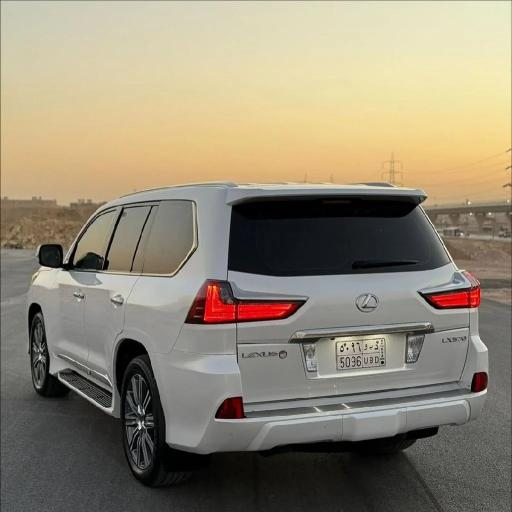license-plates: (335, 338, 386, 370)
